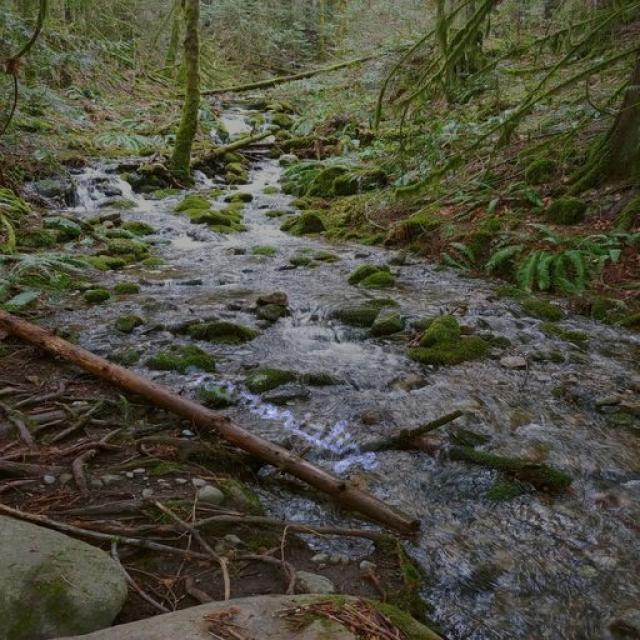watermark: (172, 344, 406, 478)
